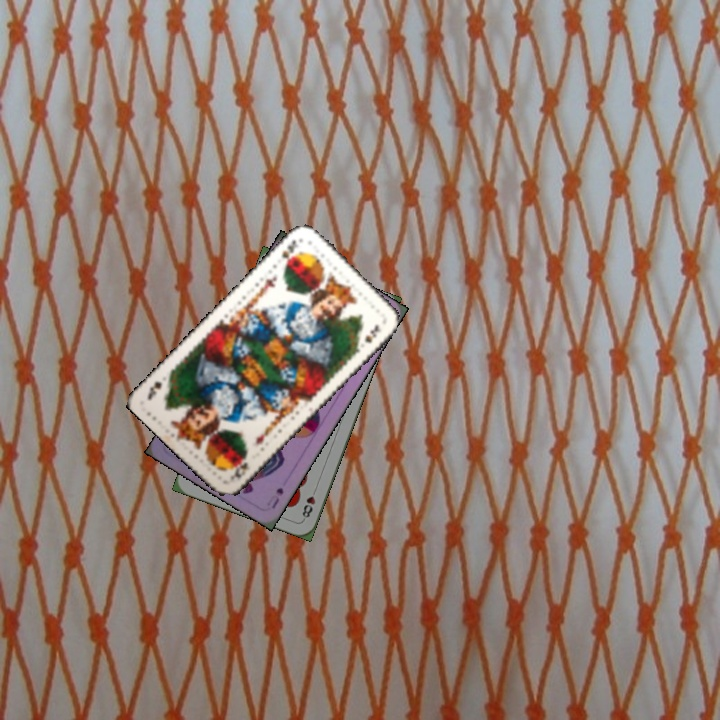H8: (298, 483, 320, 522)
SK: (277, 236, 300, 270), (226, 453, 251, 484)
SU: (263, 483, 286, 511)
